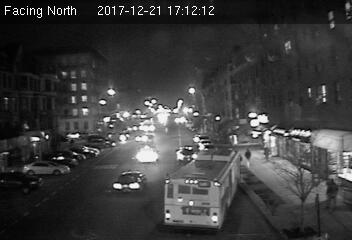bus: (161, 148, 241, 229)
car: (112, 170, 148, 195), (176, 144, 199, 164), (133, 132, 149, 143)
pedestrian: (325, 177, 339, 212), (244, 147, 251, 167)
